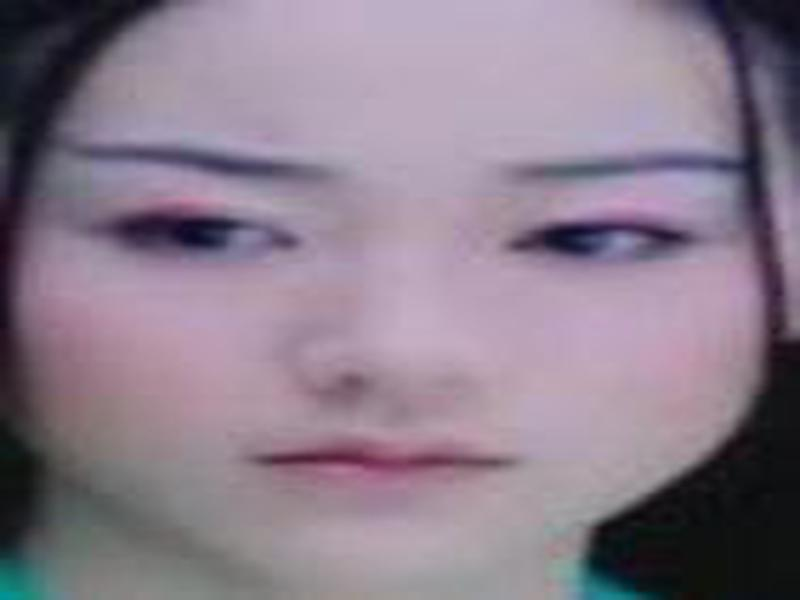without_mask: (12, 46, 780, 587)
